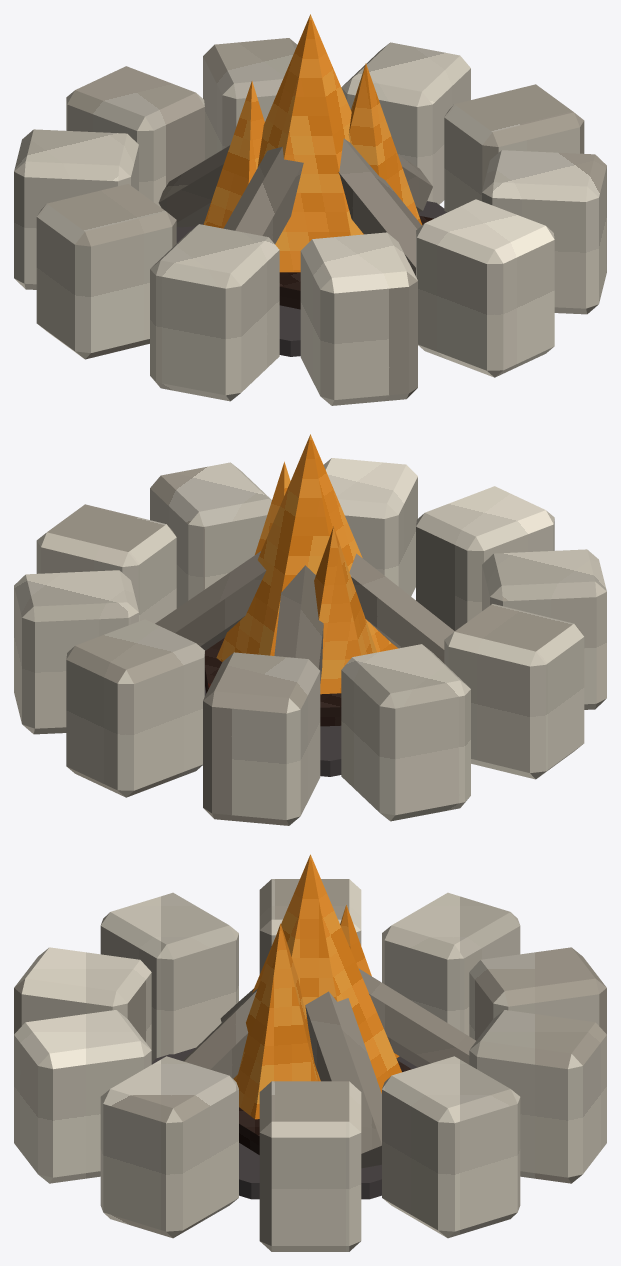
File: fire_pit.obj
3 renders of one model, top to bottom at view 1: azimuth 30°, elevation 25°; view 2: azimuth 150°, elevation 25°; view 3: azimuth 270°, elevation 25°, orthographic.
Parts seen in each view (by area): view 1: fire_pit; view 2: fire_pit; view 3: fire_pit.
Part boxes in pixels (box(x1,y1,x2,y2)): fire_pit: box(14, 14, 606, 405); fire_pit: box(14, 434, 606, 825); fire_pit: box(14, 854, 606, 1251).
Bounding box in the file's own units: 1 × 0.51 × 0.9912.
